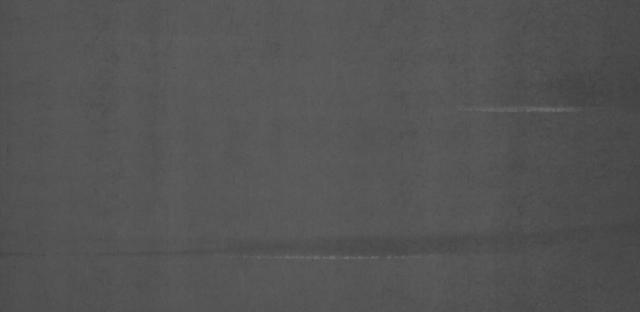crease: (112, 220, 616, 274)
